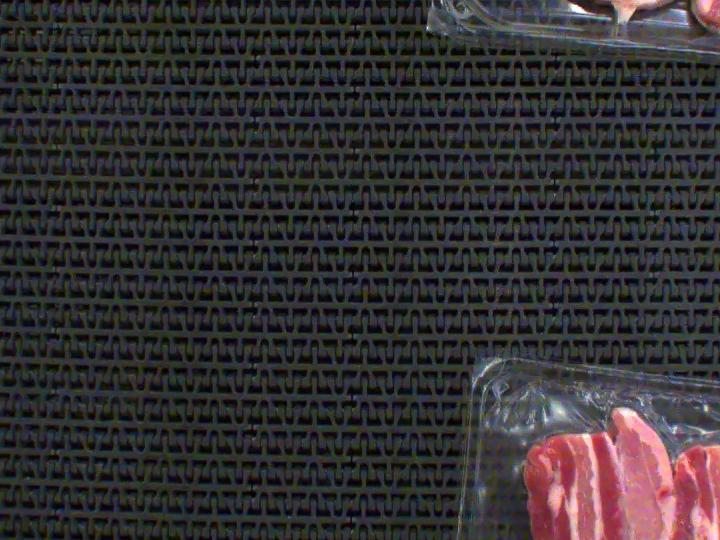unsealed: (477, 370, 720, 540)
